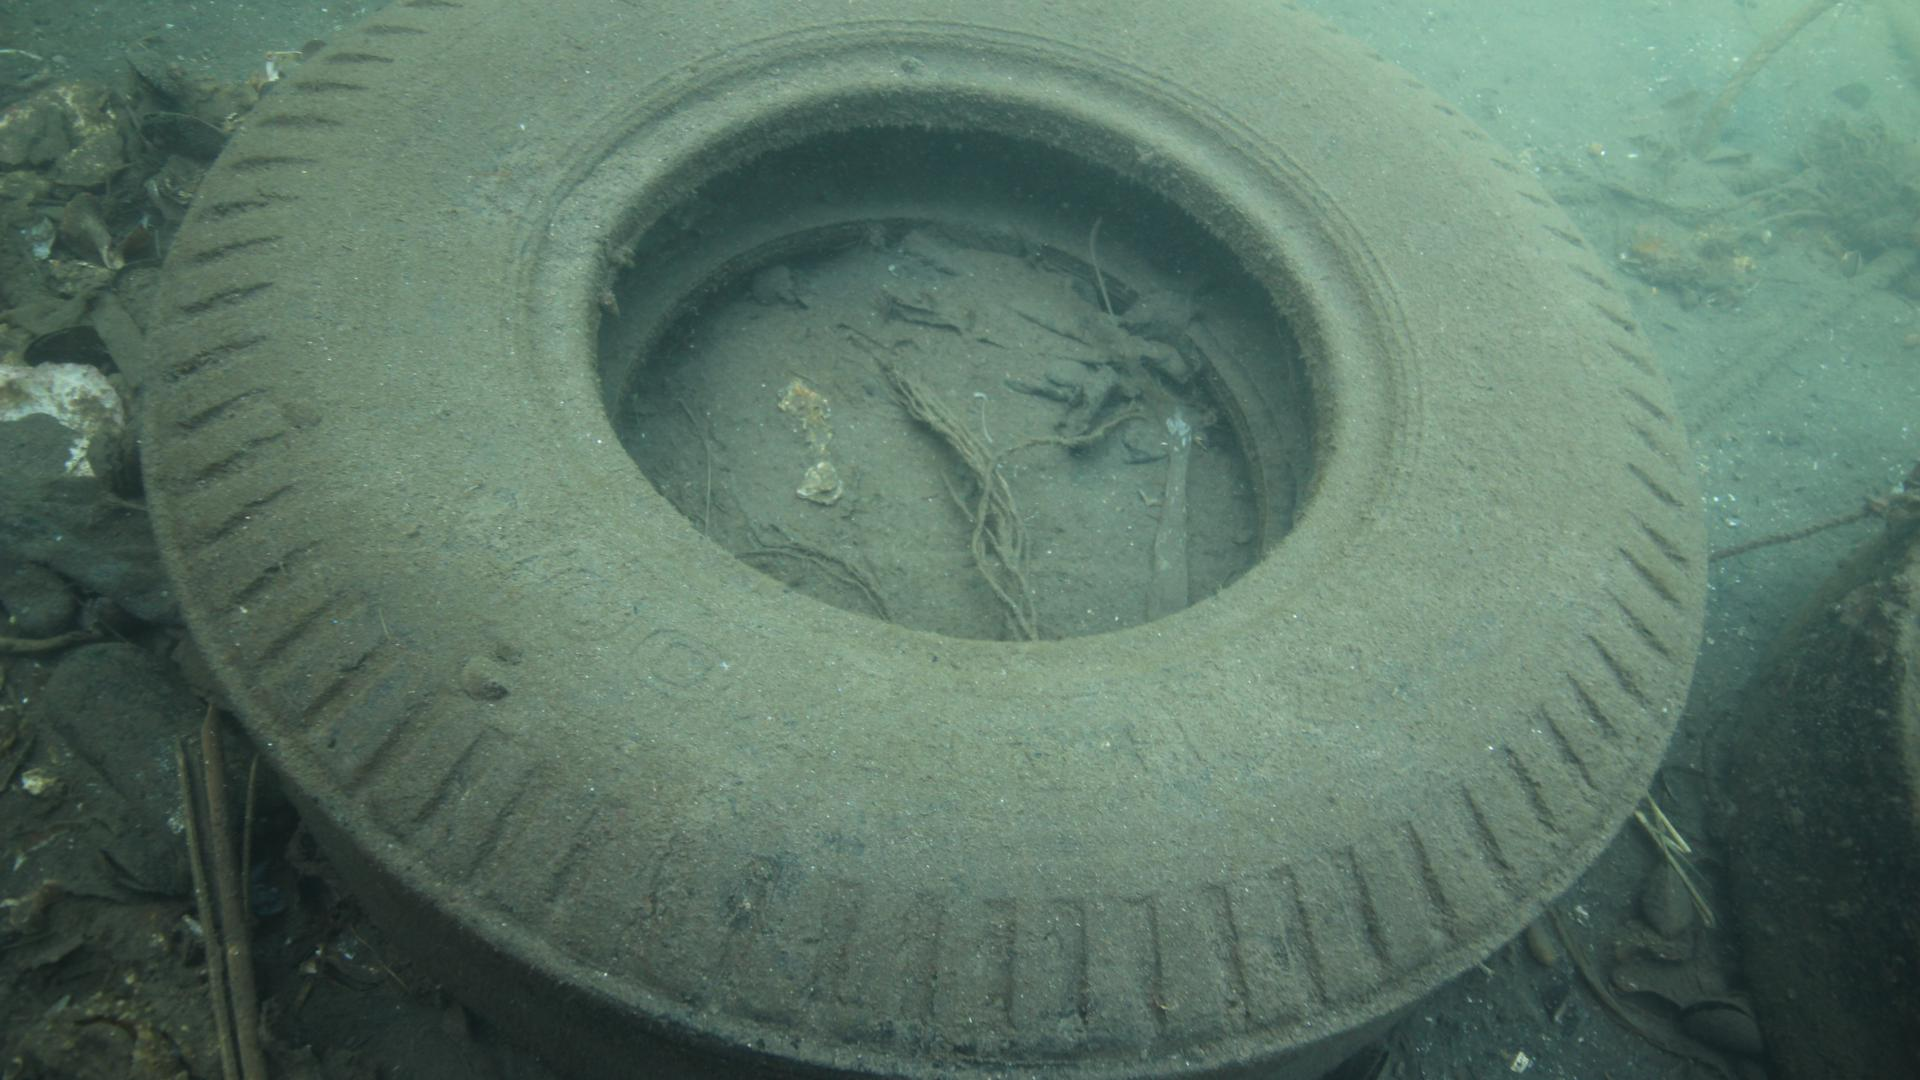rope: (1684, 224, 1917, 433), (1676, 0, 1840, 153)
tire: (135, 0, 1712, 1080)
